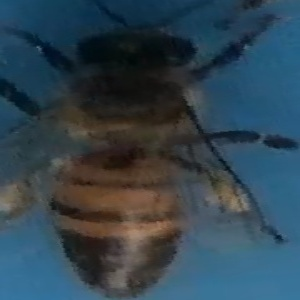bee: (13, 16, 275, 300)
